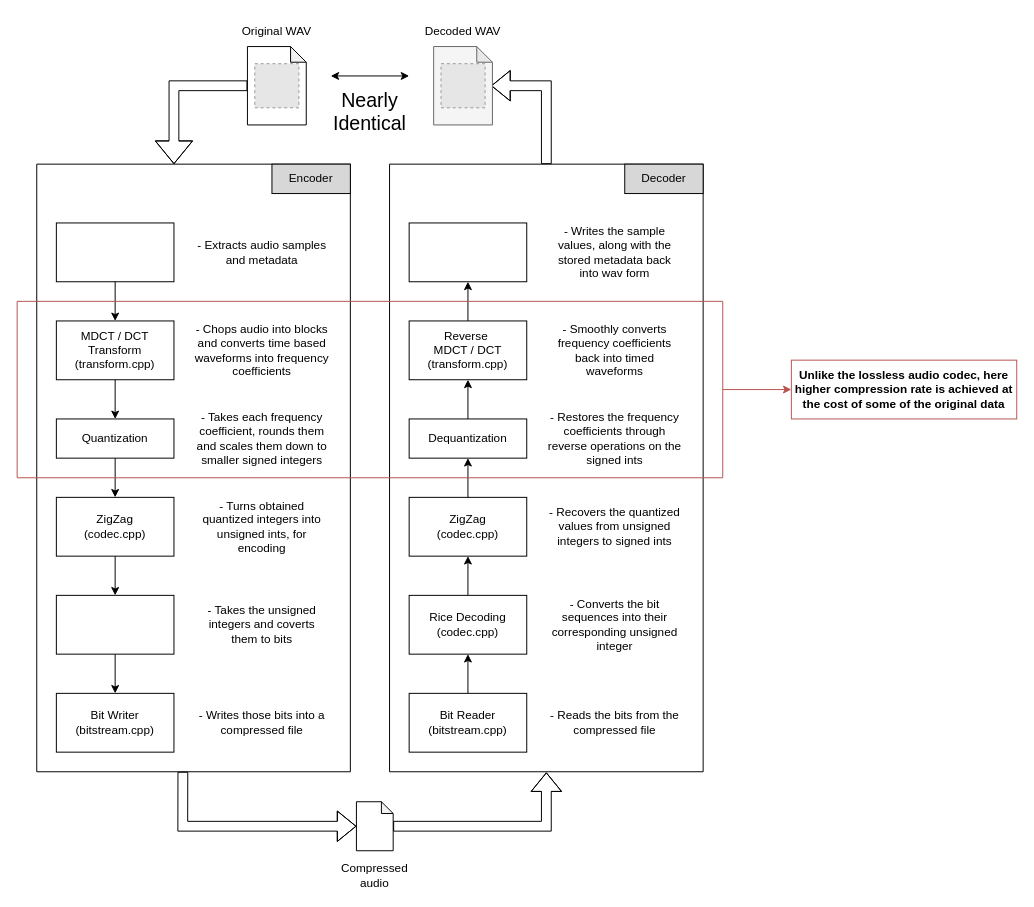
Image size: 1034x907. Some labels were removed from this diagram. Grey dashed boxes stand in for pictures. Here are the shapes that lost their labels. From the top down, the box of each, then its label:
(55, 222, 174, 282): WAV Reader (wav .cpp)
(408, 222, 527, 282): WAV Writer (wav .cpp)
(55, 594, 174, 654): Rice Encoding (codec .cpp)
